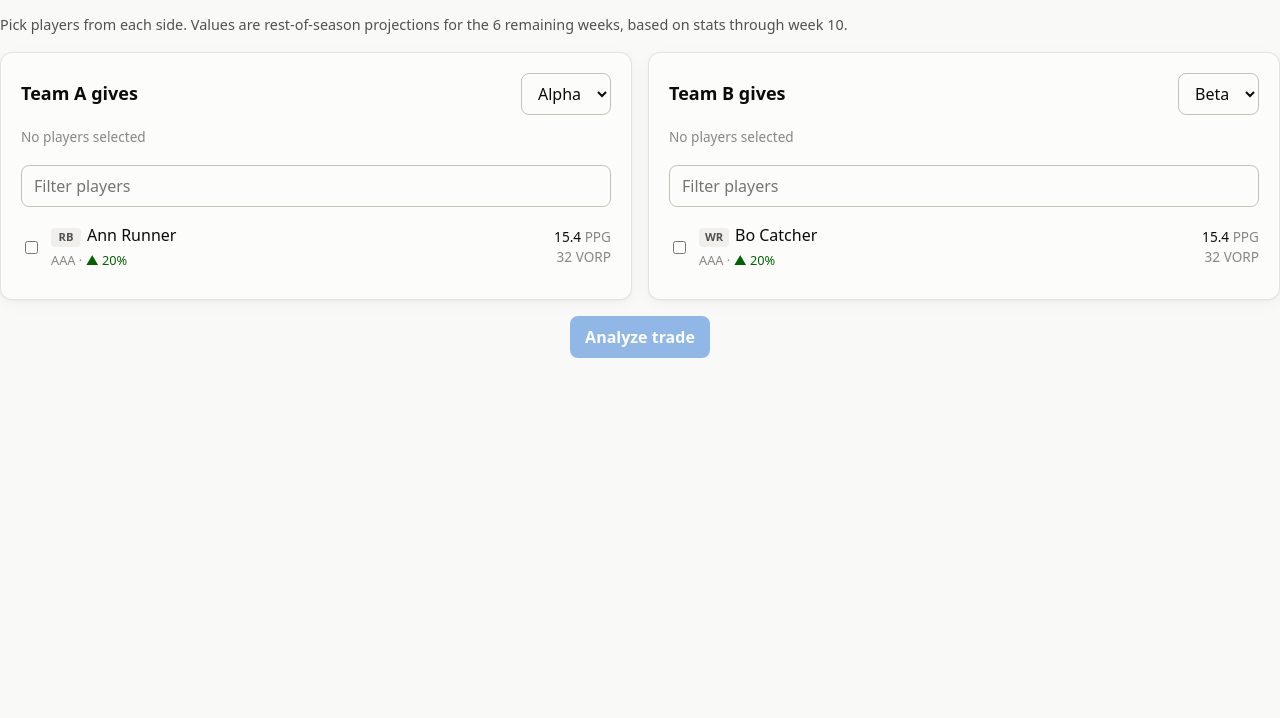
Scenario: Trade analyzer › sends the selected players and shows the verdict and reasons
The image size is (1280, 718).
Expected: the button "Analyze trade" is disabled, [570,316,710,358]
Click the checkbox labelled "Ann Runner". click: {"x": 32, "y": 247}
box: [25,240,38,254]
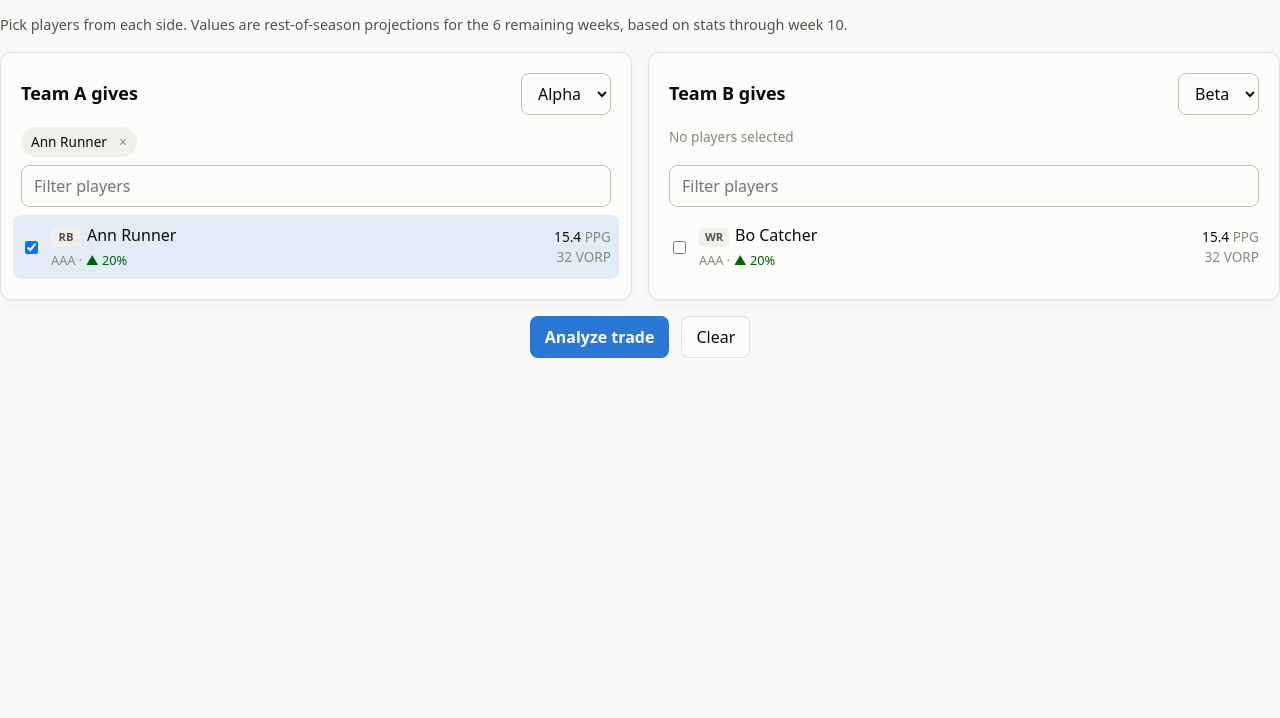
Click the button "Analyze trade". click: {"x": 600, "y": 337}
box: [530,316,670,358]
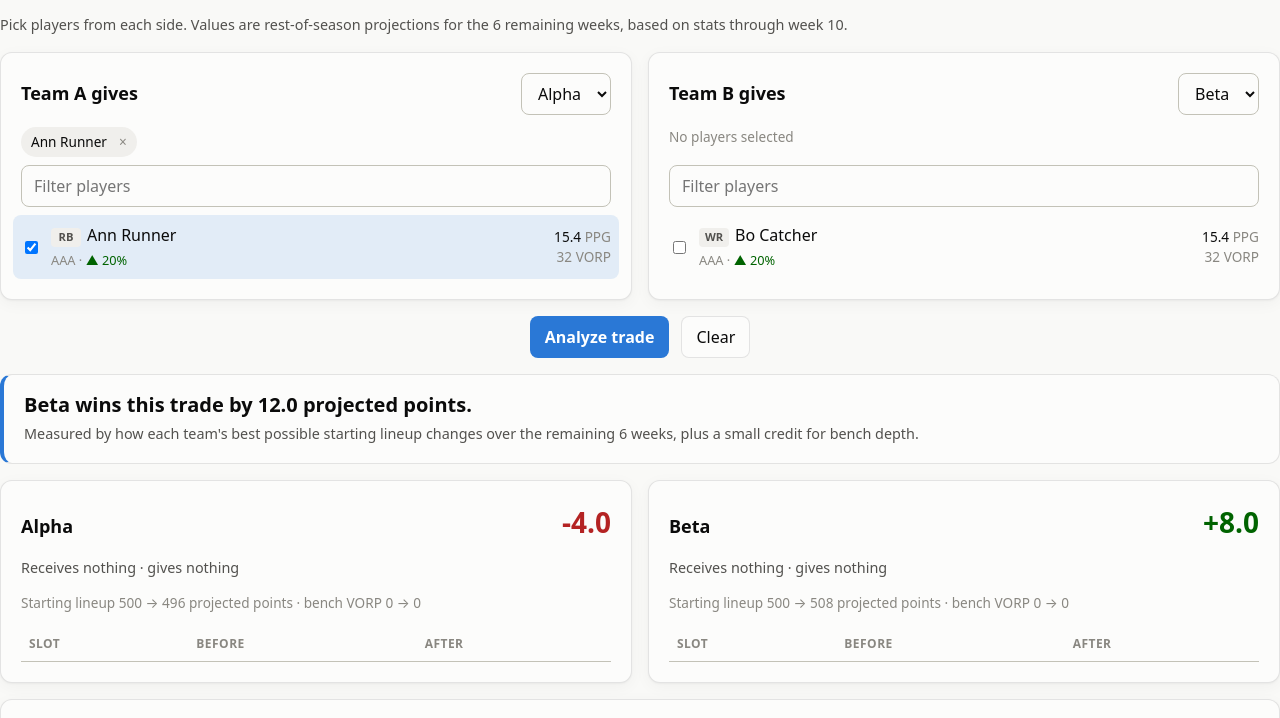
Expected: the heading "Beta wins this trade by 12.0 projected points." is shown, [24,391,472,418]
